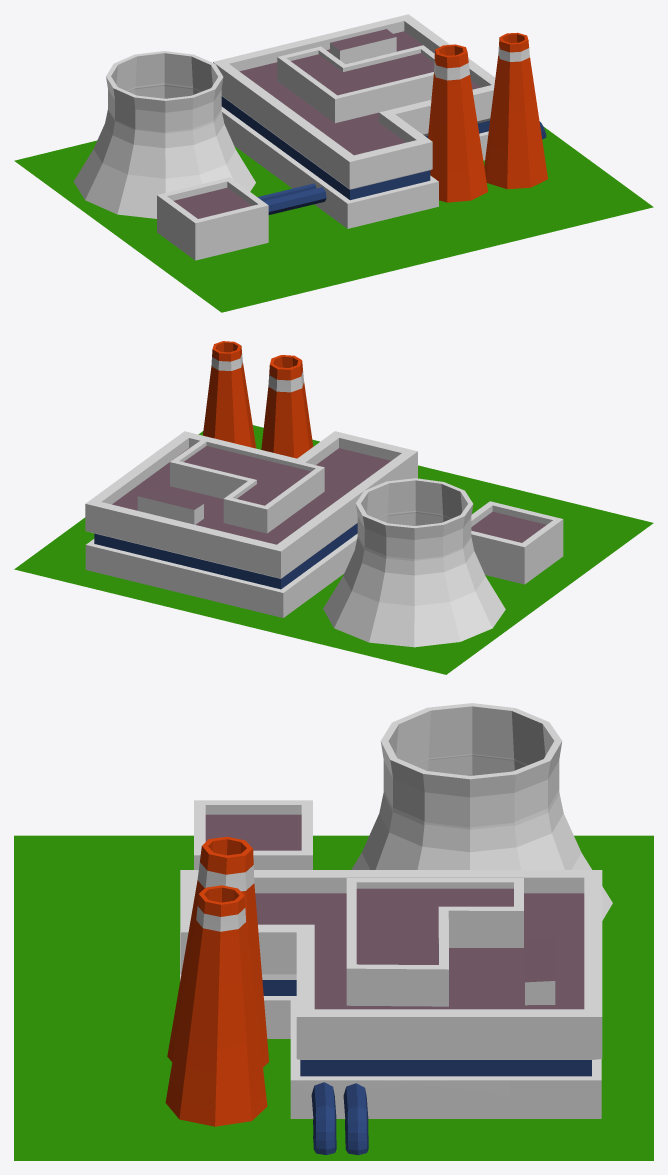
File: Factory.fbx
3 views of the same model, one above another, from view 1: azimuth 30°, elevation 25°; view 2: azimuth 150°, elevation 25°; view 3: azimuth 270°, elevation 25° (orthographic). The views are drawn at different scales.
Parts seen in each view (by area): view 1: Cube; view 2: Cube; view 3: Cube.
Boxes of the visible parts, bbox=[...] form: Cube: bbox=[14, 14, 653, 312]; Cube: bbox=[14, 341, 653, 674]; Cube: bbox=[14, 703, 653, 1160].
Size of the model in its own units: 1964 by 610 by 1634.
